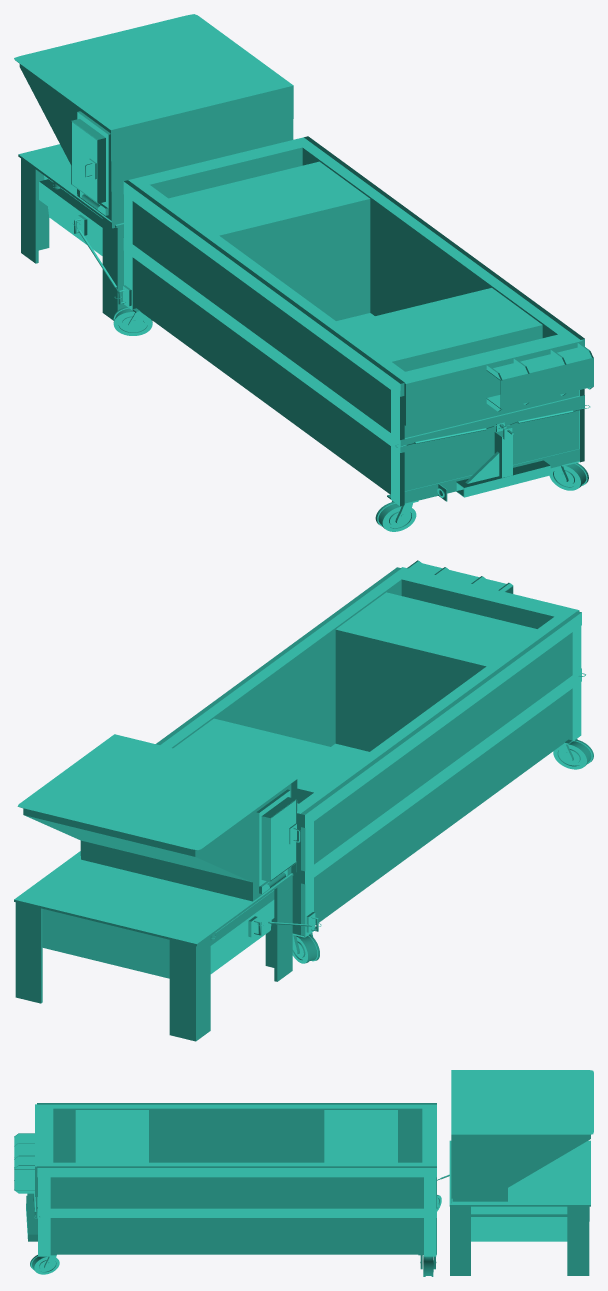
File: Compactor_V2.FBX
The picture shows the model from 3 angles, top to bottom: view 1: azimuth 30°, elevation 25°; view 2: azimuth 150°, elevation 25°; view 3: azimuth 270°, elevation 25°; orthographic projection. The views are drawn at different scales.
Visible parts, largest first — view 1: Box001; view 2: Box001; view 3: Box001.
Boxes of the visible parts, x1,y1,x2,y2 form: Box001: [14, 14, 593, 531]; Box001: [14, 560, 593, 1041]; Box001: [14, 1070, 593, 1276].
Size of the model in its own units: 219 by 189 by 707.
